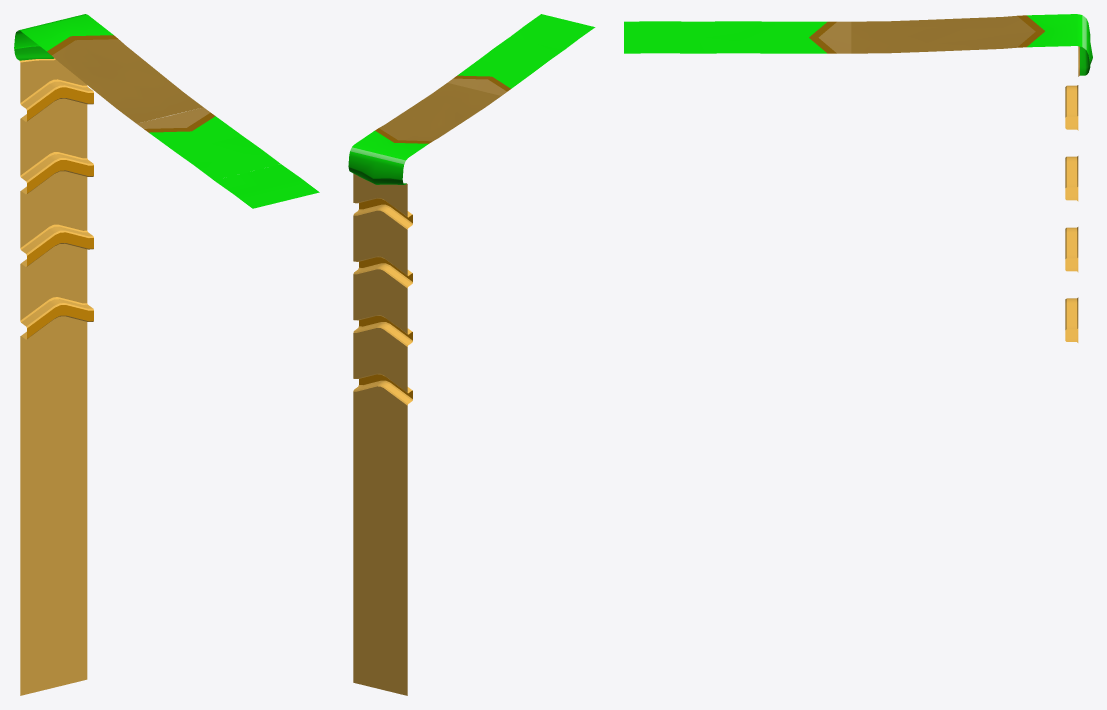
File: Ground.fbx
The picture shows the model from 3 angles, left to right: view 1: azimuth 30°, elevation 25°; view 2: azimuth 150°, elevation 25°; view 3: azimuth 270°, elevation 25°; orthographic projection. The views are drawn at different scales.
Parts seen in each view (by area): view 1: Ground; view 2: Ground; view 3: Ground.
Part boxes in pixels (<box>): Ground: <box>14,14,319,695</box>; Ground: <box>348,14,595,695</box>; Ground: <box>624,14,1092,342</box>.
Bounding box in the file's own units: 200 × 1893 × 1238.
